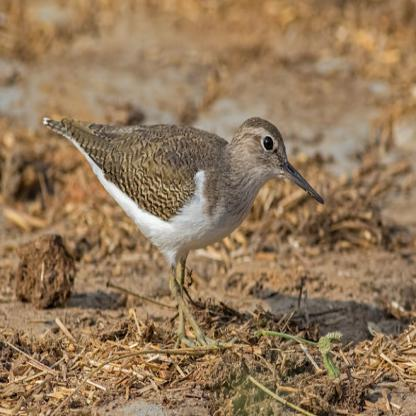Burung: (40, 94, 324, 343)
